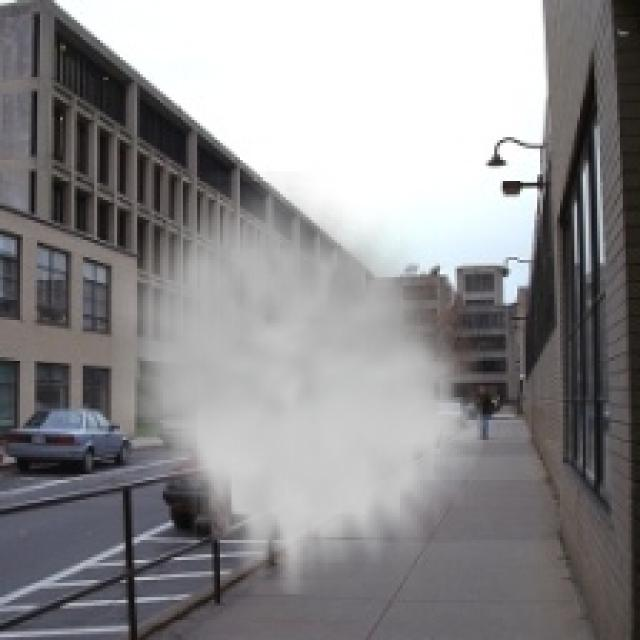smoke: (111, 172, 483, 594)
